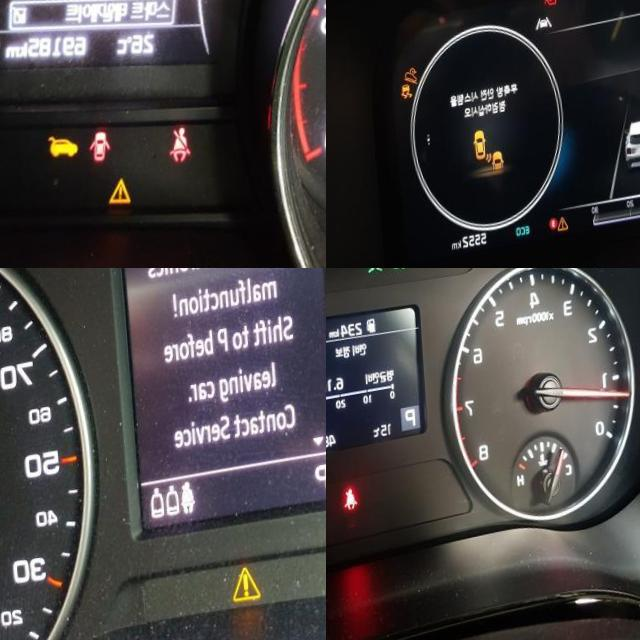Central Warning lamp: (101, 183, 129, 218), (551, 229, 564, 246)
Doors: (81, 137, 107, 174)
LaneCenteringOff: (532, 29, 550, 44)
Low beam: (387, 268, 404, 282)
SideLamp: (364, 268, 381, 284)
